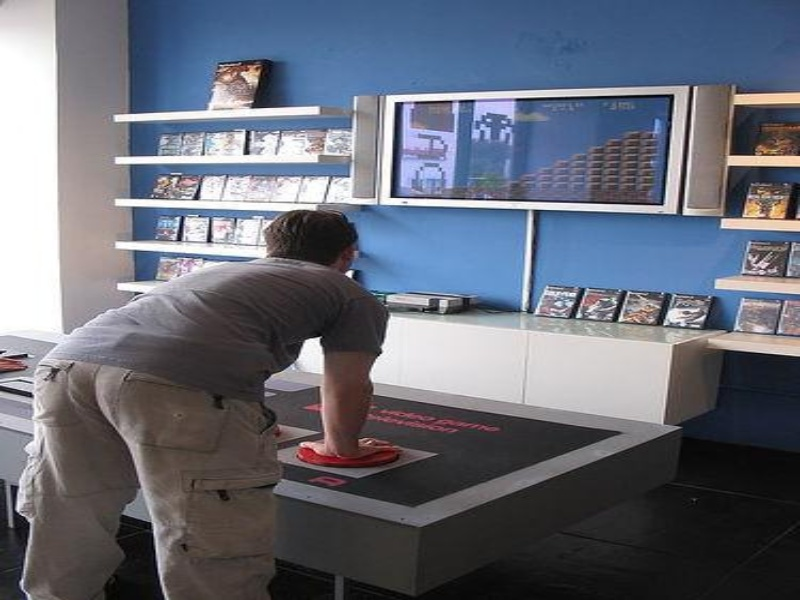hands: (290, 433, 410, 468)
